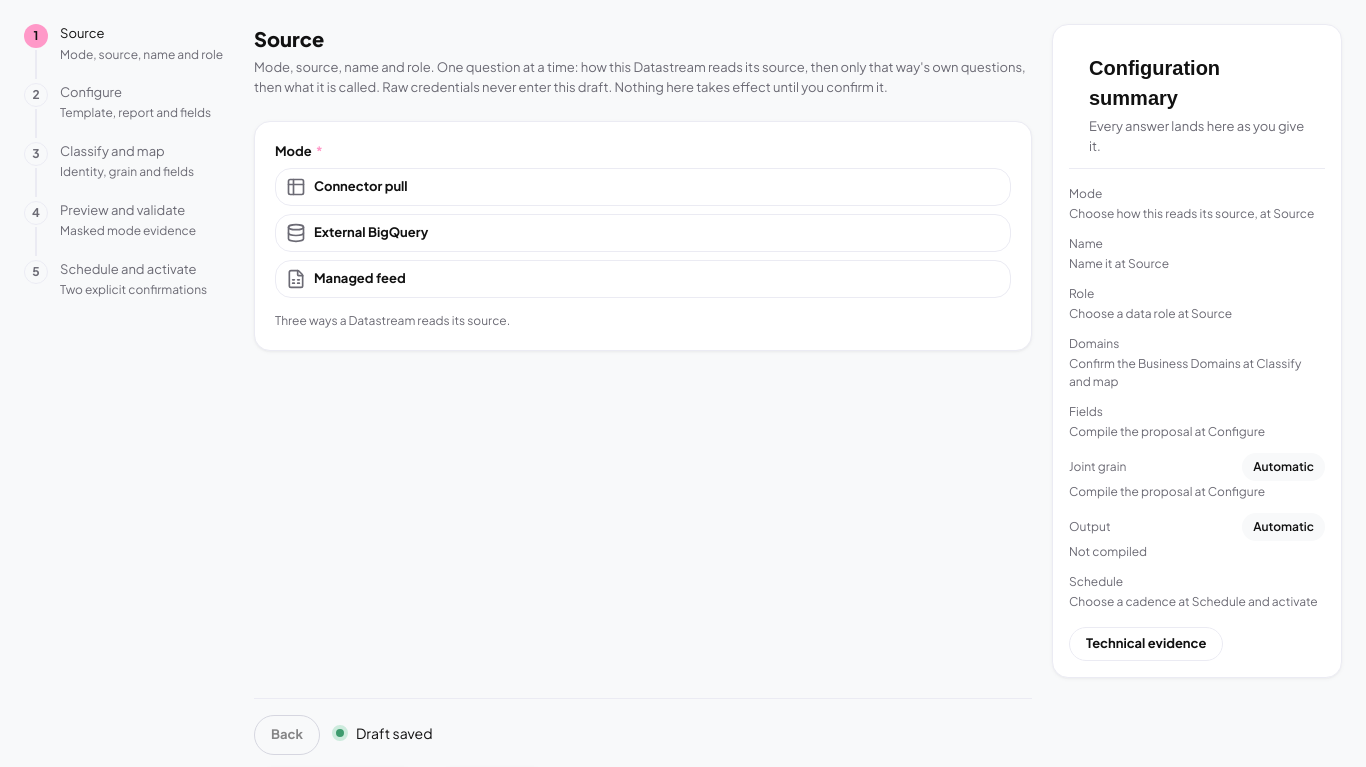
Test: an edit while source-options is in flight still lets the options arrive
The width and height of the screenshot is (1366, 767).
Click the radio button labelled "Connector pull": x=361, y=186 [275,168,1011,206]
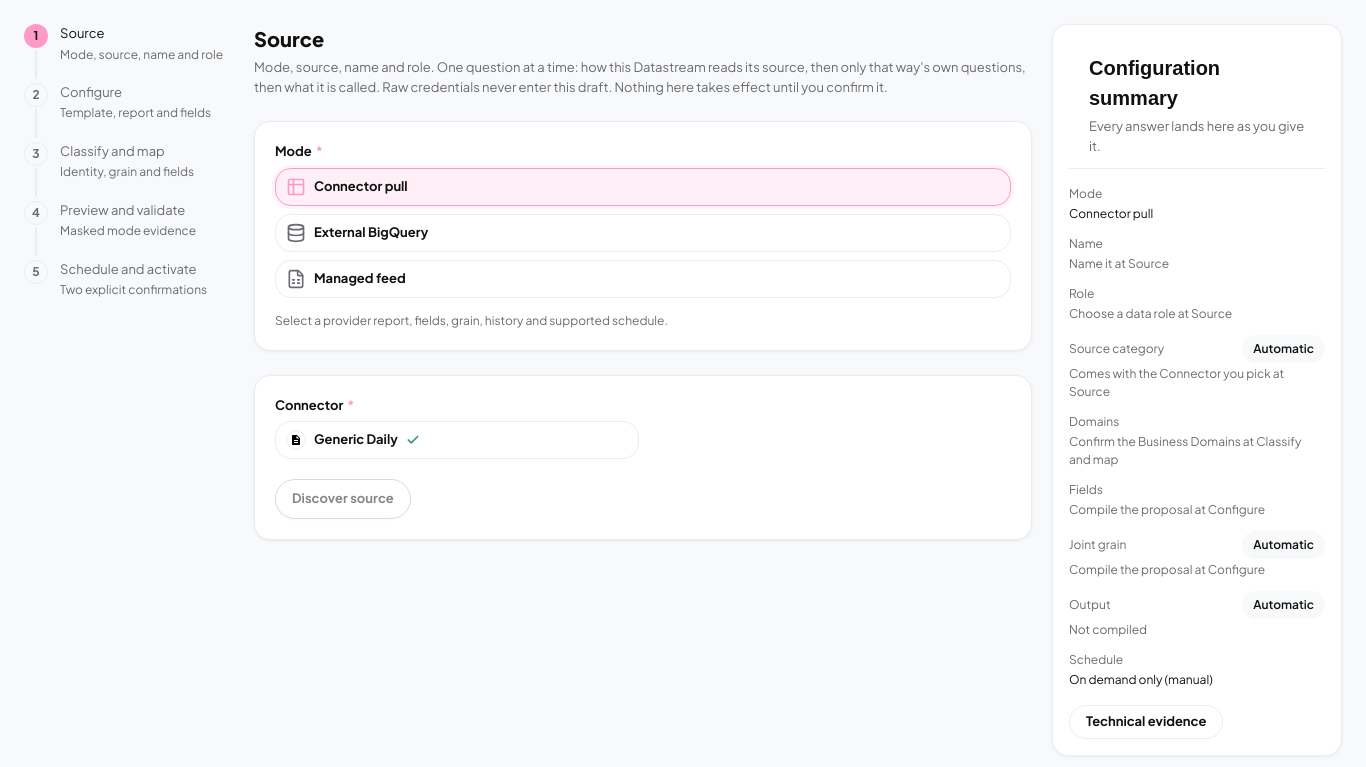
Result: the radio button labelled "Generic Daily" is shown at [275,421,639,459]
